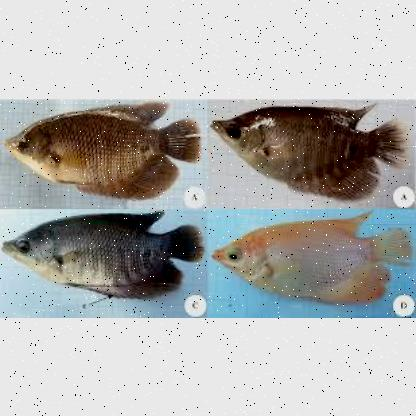gurame: (0, 98, 202, 204), (210, 98, 406, 202), (210, 208, 406, 304), (5, 209, 199, 302)
